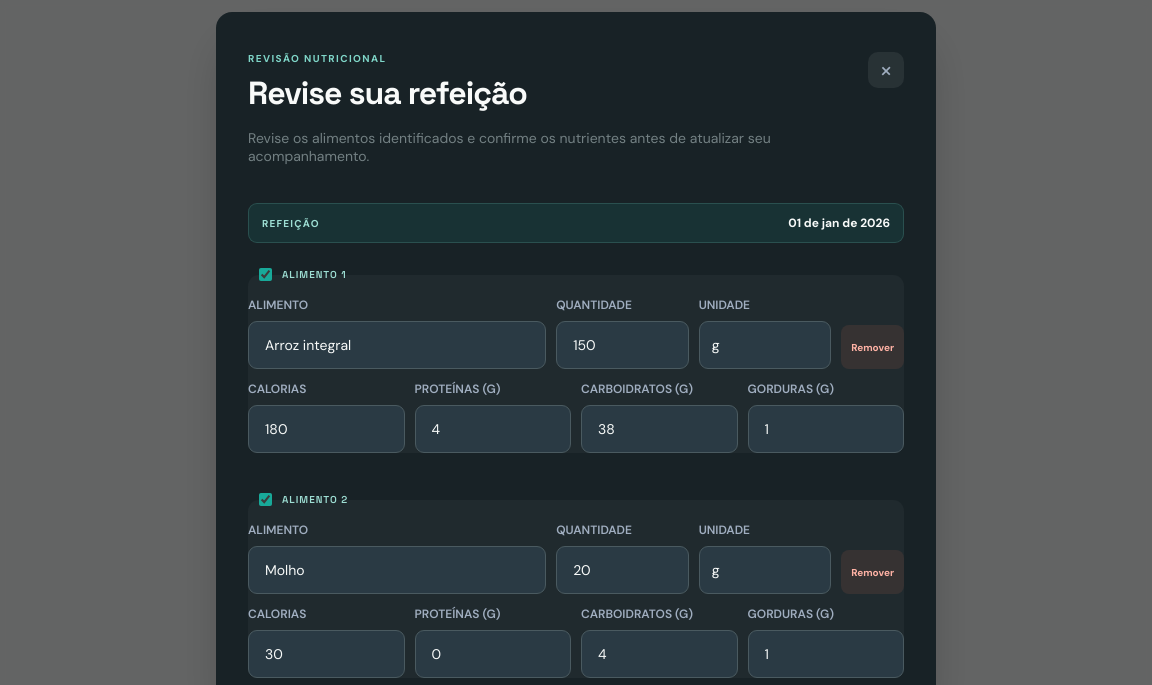
it: MealAnalysisForm › impede confirmação sem itens selecionados
The image size is (1152, 685).
Click the checkbox labelled "Alimento 1".
click(266, 274)  # box [259,268,272,281]
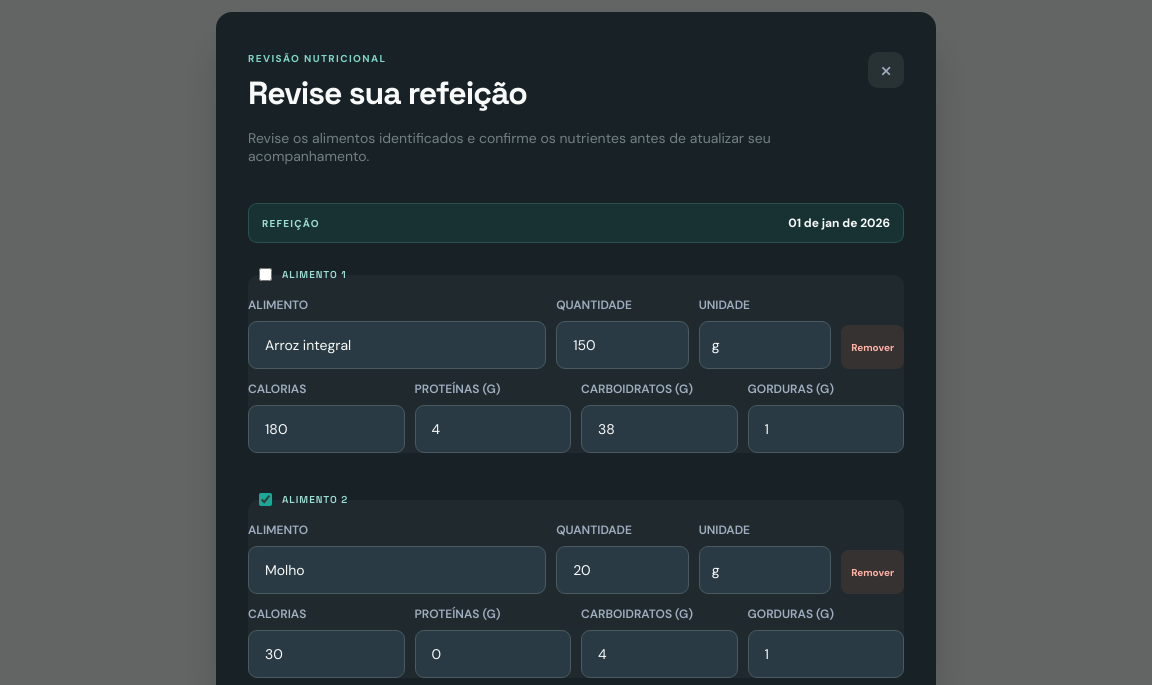
Click the checkbox labelled "Alimento 2".
click(266, 500)  # box [259,493,272,506]
(page scrolled)
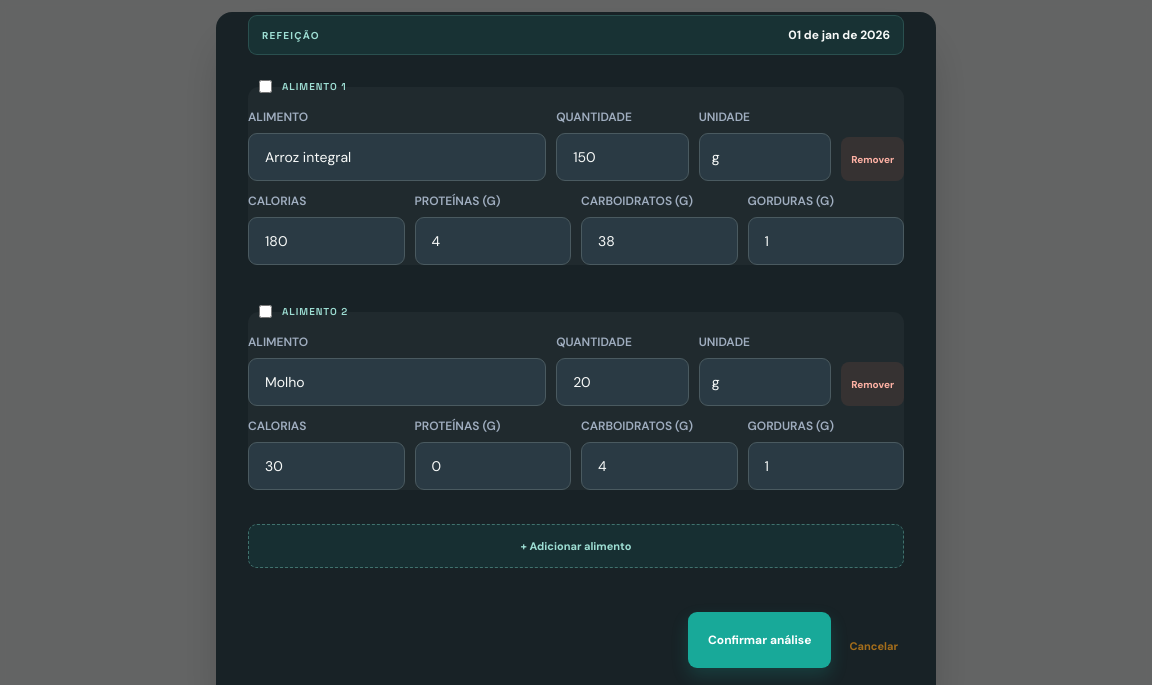
Click the button "Confirmar análise".
click(760, 640)  # box [688,612,831,668]
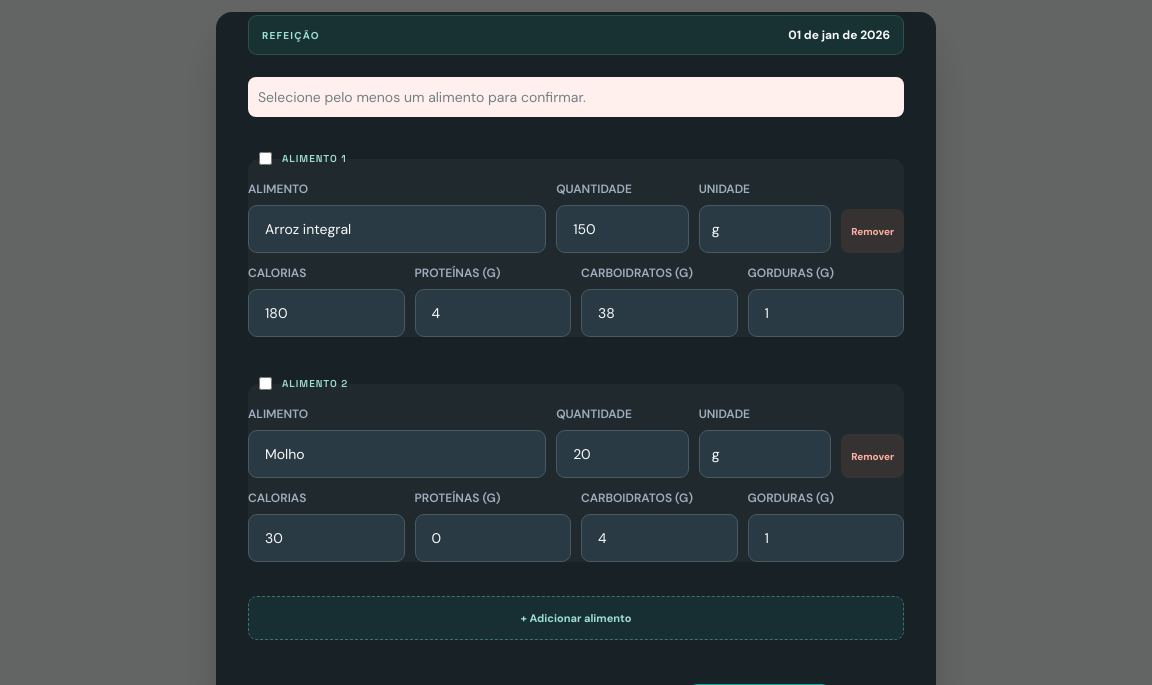
Expected: the message shows "Selecione pelo menos um alimento", [258,88,586,106]
